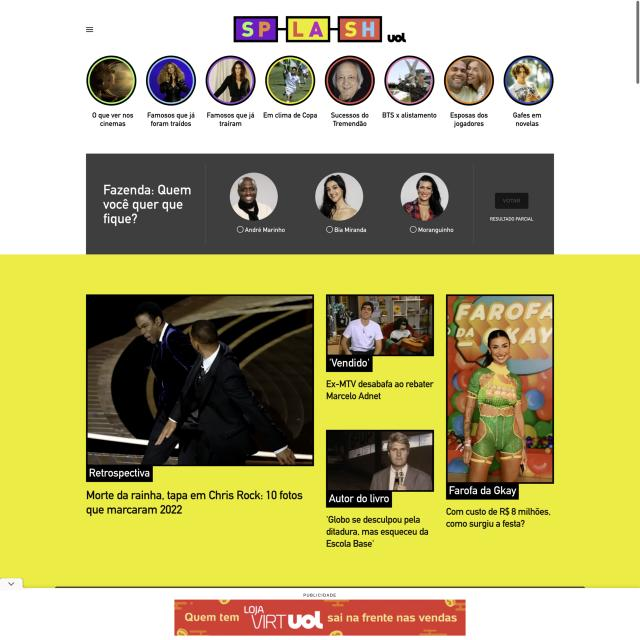ImageView: (85, 154, 554, 254), (173, 591, 467, 636)
bag: (0, 0, 640, 53)
copy: (86, 294, 313, 466), (446, 292, 554, 483), (326, 429, 434, 492), (327, 294, 434, 355)
date picker: (233, 14, 408, 44)
decoration: (81, 54, 558, 132), (84, 24, 95, 35)
